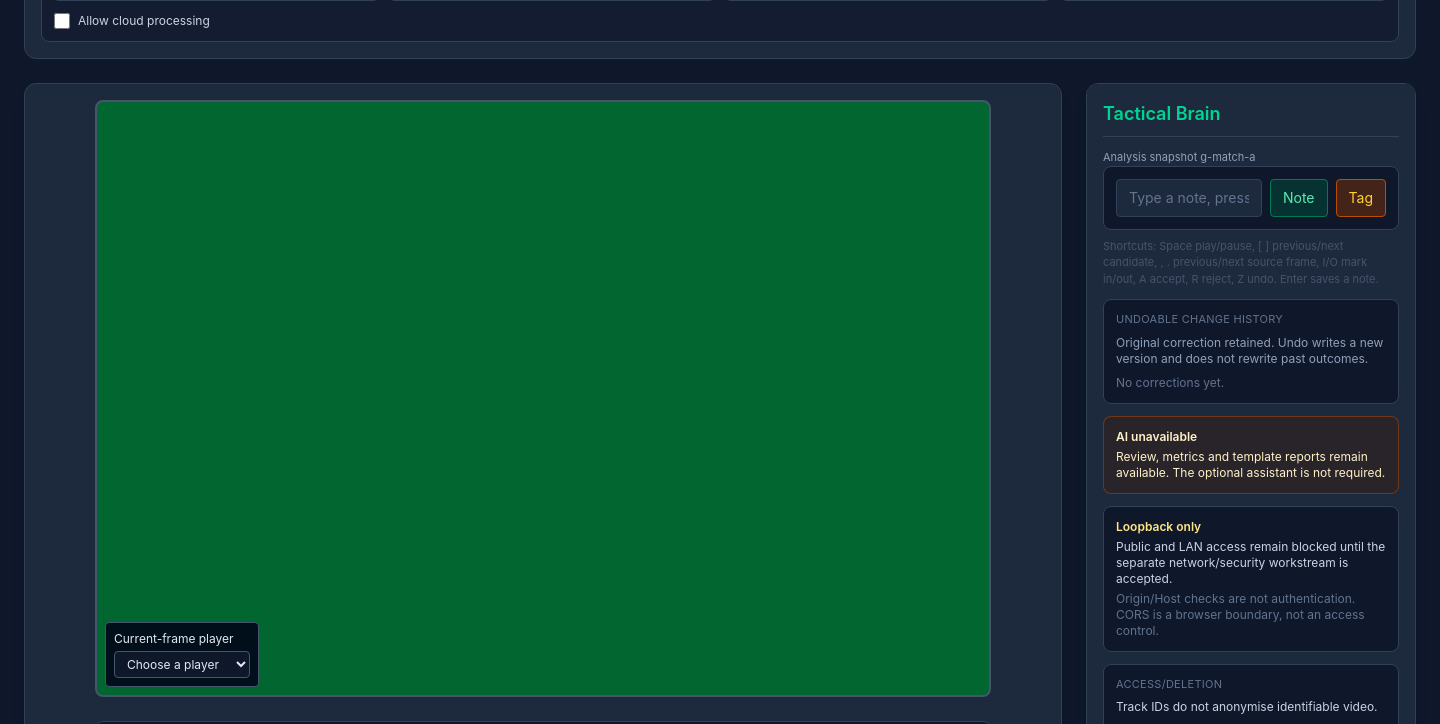
Test: App match workspace loading › closes the selected player when the active match changes
The width and height of the screenshot is (1440, 724).
(page scrolled)
Click the picture: (543, 399) [97,102,989,695]
(page scrolled)
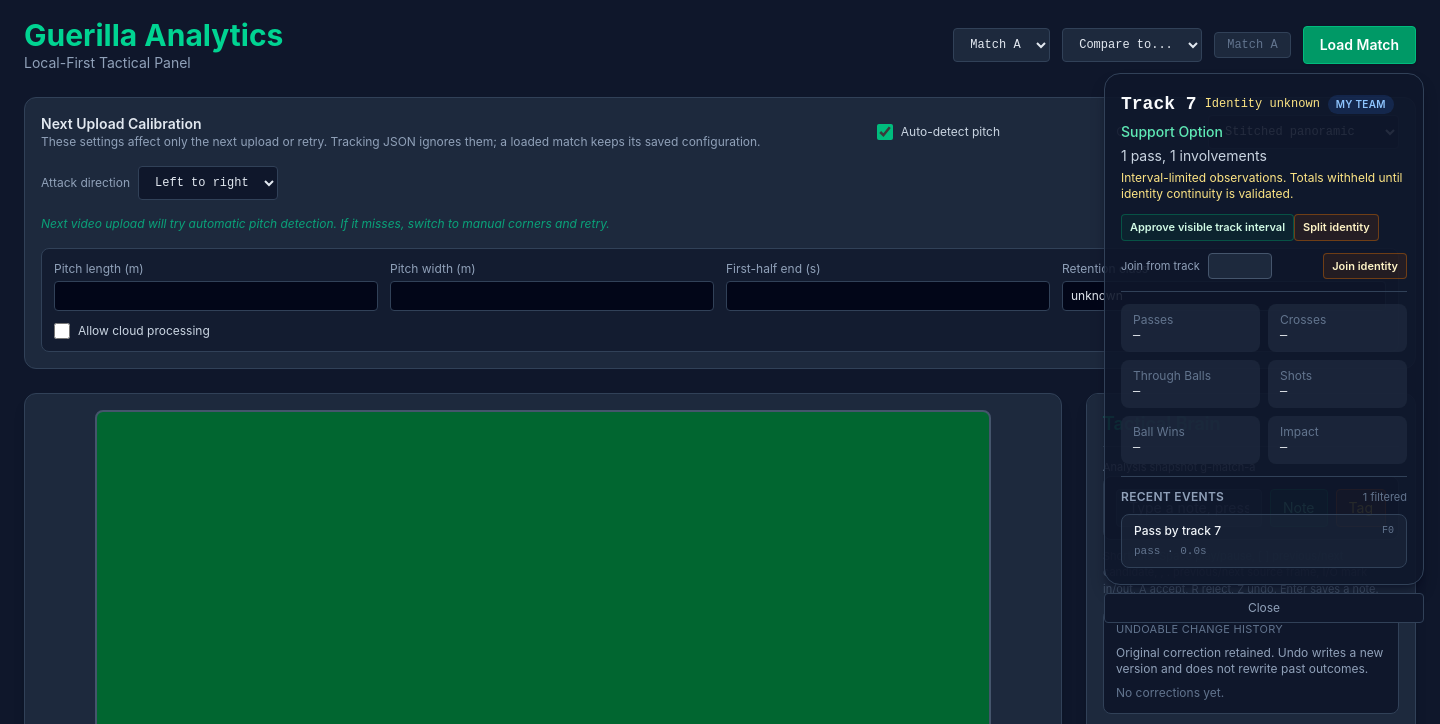
Expected: the heading "Track 7" is shown, [1121,90,1197,118]
Select "Match B" in the dropdown named "Active match": (1002, 45) [953,28,1050,62]
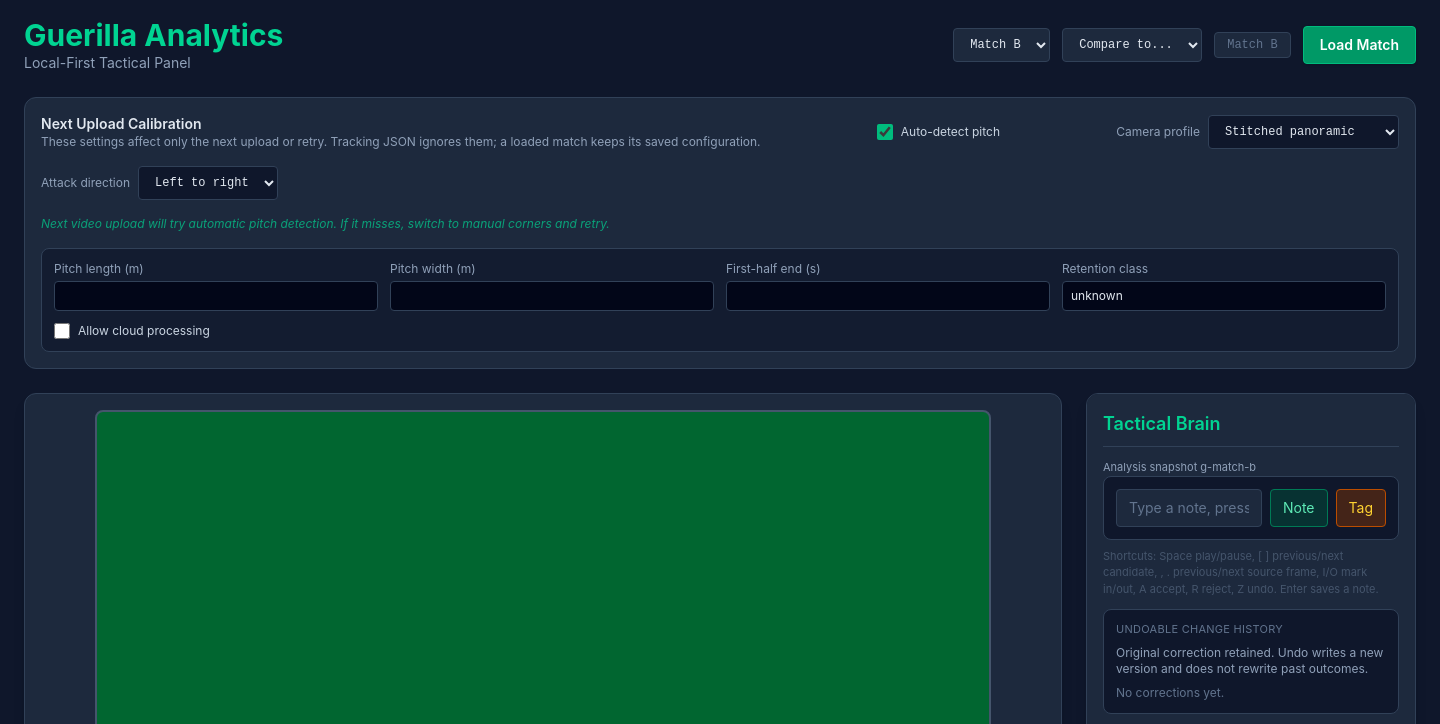
Expected: the text "Match B" is shown, [1214,32,1291,58]
Expected: the heading "Track 7" is gone
